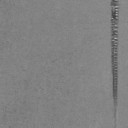slag inclusion: (110, 0, 118, 105)
